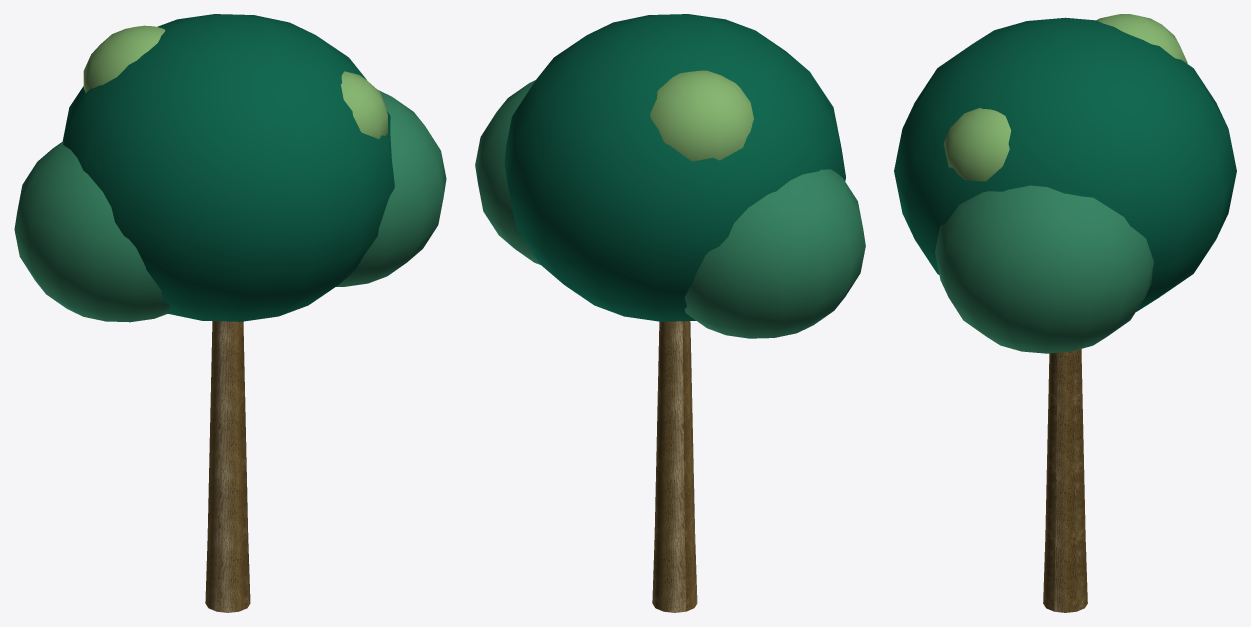
The model's file is pohon-rindang.glb.
The picture shows the model from 3 angles, left to right: view 1: azimuth 30°, elevation 25°; view 2: azimuth 150°, elevation 25°; view 3: azimuth 270°, elevation 25°; orthographic projection.
Parts seen in each view (by area): view 1: Tajuk_Utama, Tajuk_Kiri, Batang, Tajuk_Kanan, DaunMuda_A, DaunMuda_B; view 2: Tajuk_Utama, Tajuk_Kiri, Batang, DaunMuda_A, Tajuk_Kanan; view 3: Tajuk_Utama, Tajuk_Kanan, Batang, DaunMuda_B, DaunMuda_A.
Boxes of the visible parts, box(x1,y1,x2,y2) form: Tajuk_Utama: box(62, 14, 394, 321); Tajuk_Kiri: box(14, 141, 170, 322); Batang: box(205, 321, 250, 612); Tajuk_Kanan: box(336, 90, 446, 286); DaunMuda_A: box(83, 25, 164, 93); DaunMuda_B: box(341, 71, 387, 138); Tajuk_Utama: box(504, 14, 845, 321); Tajuk_Kiri: box(684, 169, 865, 338); Batang: box(652, 321, 697, 612); DaunMuda_A: box(650, 70, 753, 161); Tajuk_Kanan: box(475, 80, 540, 264); Tajuk_Utama: box(894, 17, 1236, 311); Tajuk_Kanan: box(935, 185, 1153, 353); Batang: box(1043, 349, 1087, 612); DaunMuda_B: box(943, 108, 1011, 181); DaunMuda_A: box(1096, 14, 1187, 63).
Size of the model in its own units: 5.9 by 8.42 by 4.6.
Materials: 4 (1 with a texture image).
